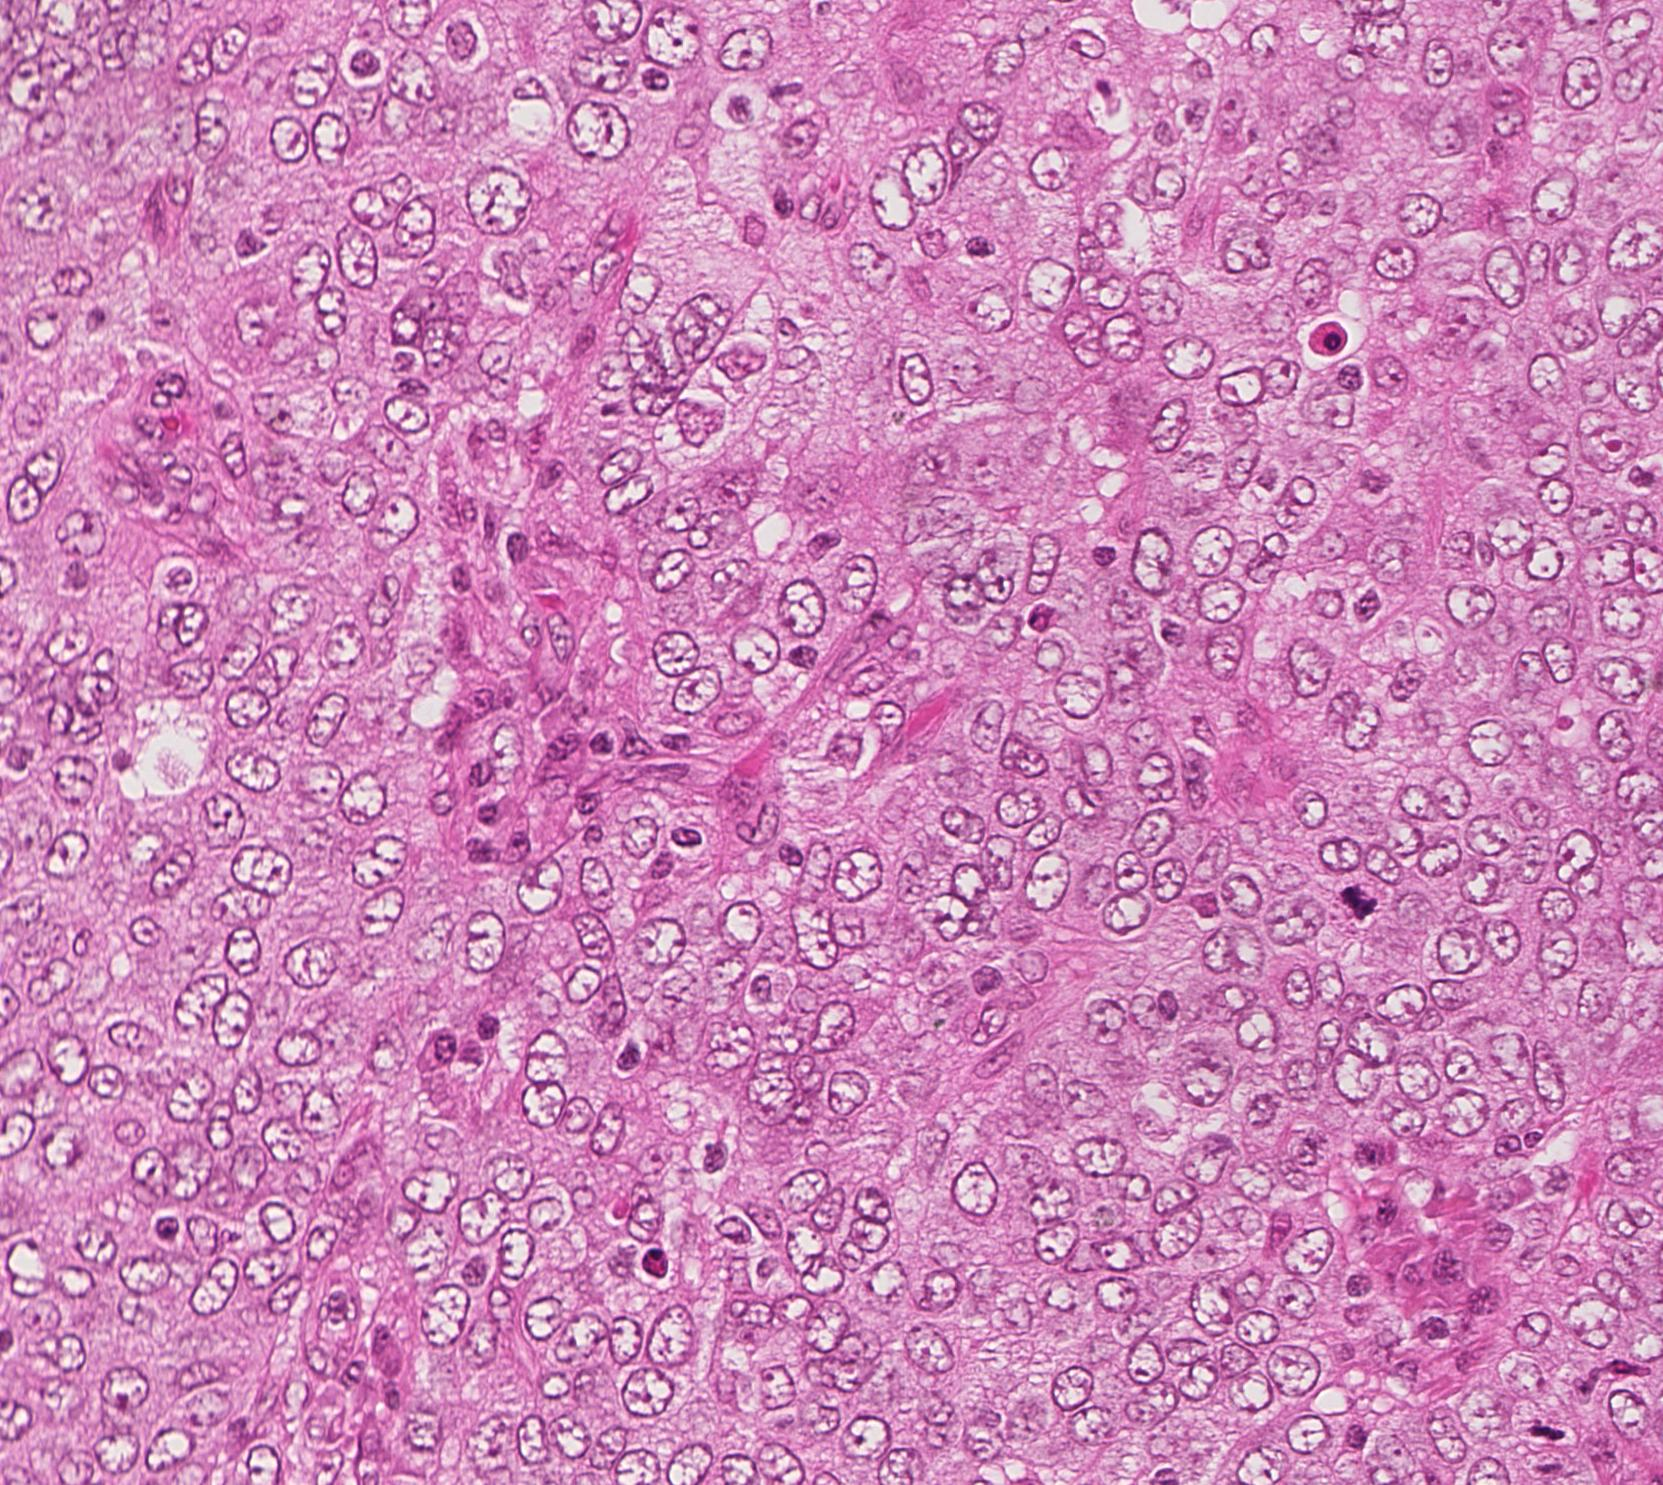mitosis: (1326, 872, 1386, 932), (1515, 1400, 1576, 1461)
